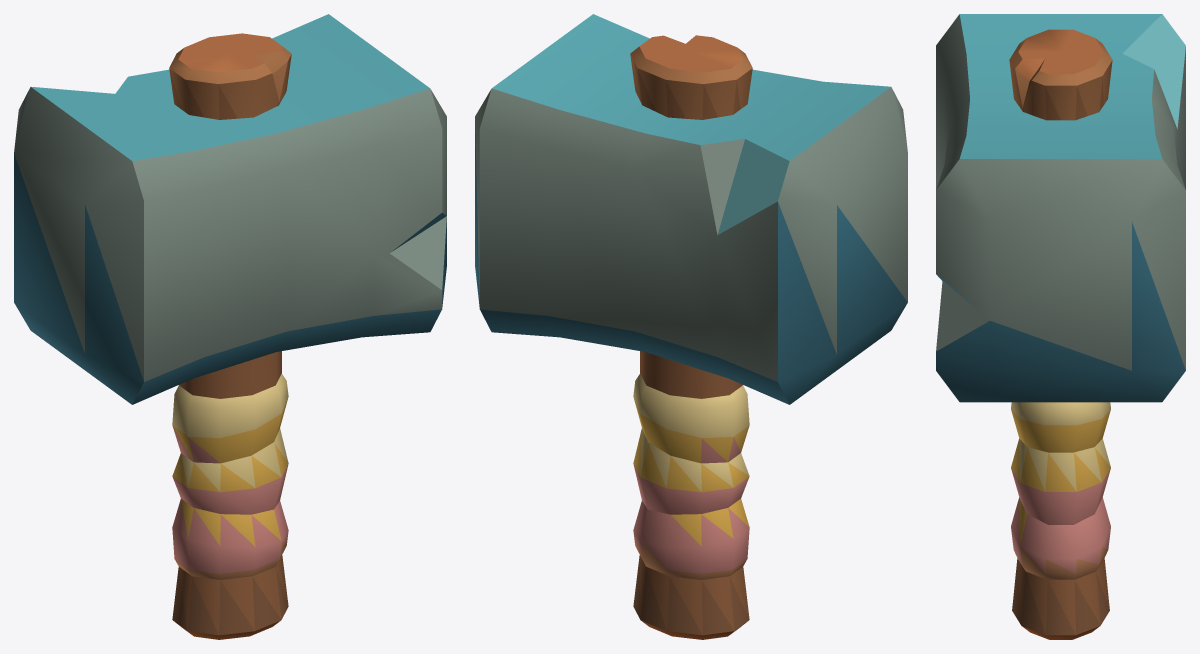
File: itch_kaykit_rpg_tools_hammer.glb
3 renders of one model, left to right at view 1: azimuth 30°, elevation 25°; view 2: azimuth 150°, elevation 25°; view 3: azimuth 270°, elevation 25°, orthographic.
Parts seen in each view (by area): view 1: hammer; view 2: hammer; view 3: hammer.
Boxes of the visible parts, left/top/right/bottom form: hammer: left=14, top=14, right=446, bottom=639; hammer: left=475, top=14, right=907, bottom=639; hammer: left=936, top=14, right=1185, bottom=639.
Size of the model in its own units: 1.18 by 1.79 by 0.7081.
